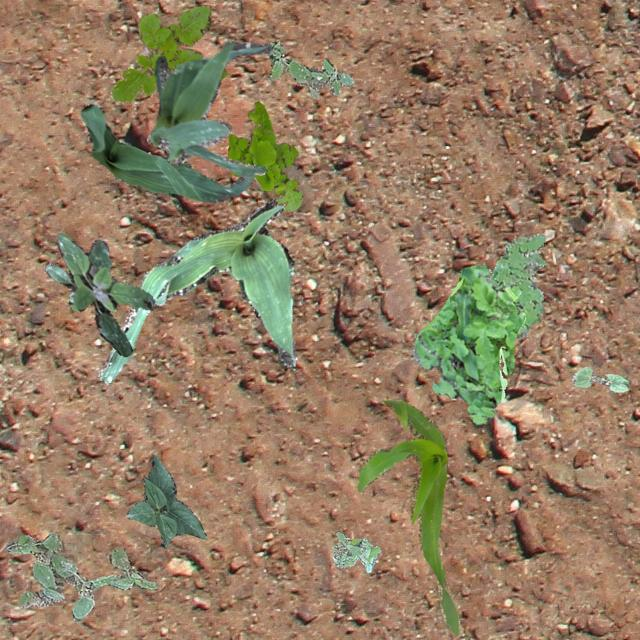crop: (97, 198, 296, 382), (356, 400, 462, 634), (146, 40, 270, 176), (80, 105, 253, 202), (126, 453, 206, 548), (572, 366, 628, 392)
weed: (412, 264, 524, 426), (4, 530, 160, 622), (44, 232, 154, 356), (110, 3, 226, 102), (226, 100, 302, 210), (486, 232, 546, 338), (264, 40, 352, 98), (331, 530, 378, 572)
